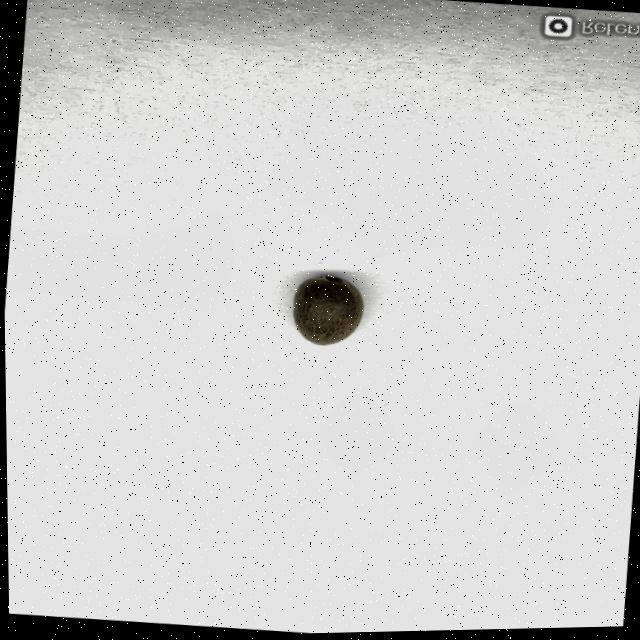Black: (287, 274, 365, 351)
